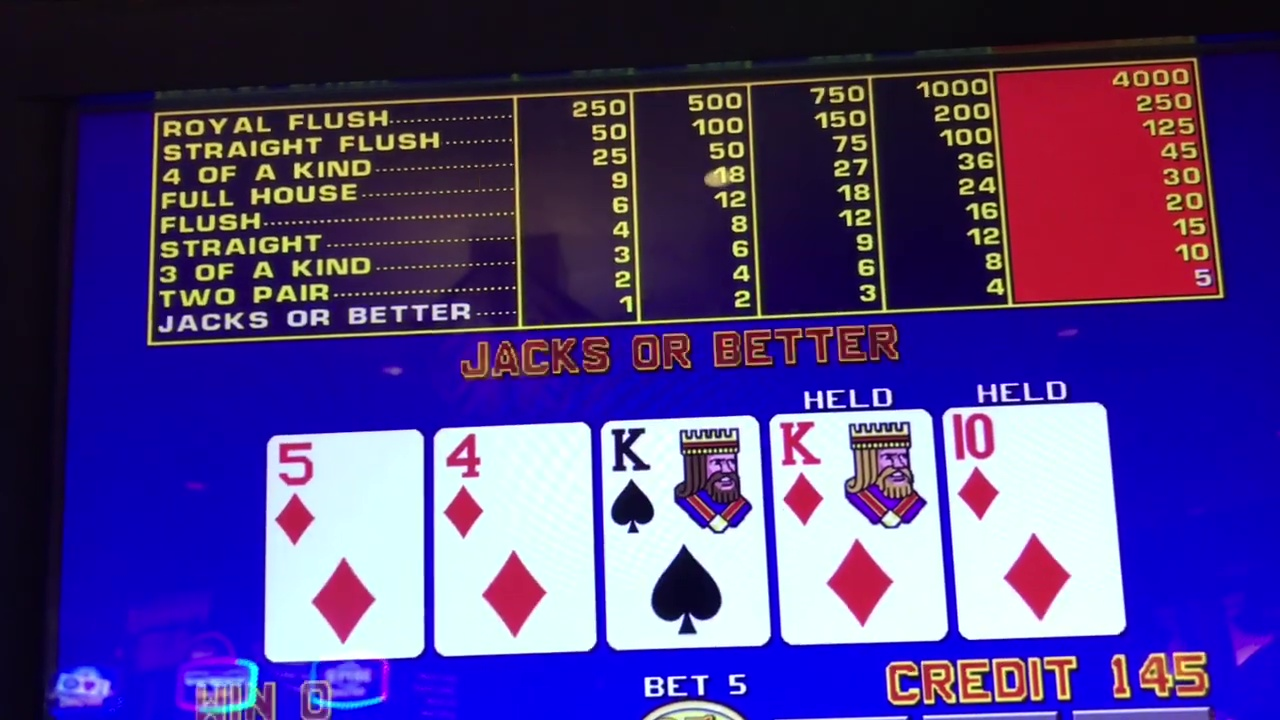D4: (440, 428, 587, 548)
D5: (273, 437, 416, 557)
DK: (779, 412, 935, 533)
DT: (951, 406, 1110, 532)
SK: (606, 422, 765, 544)
